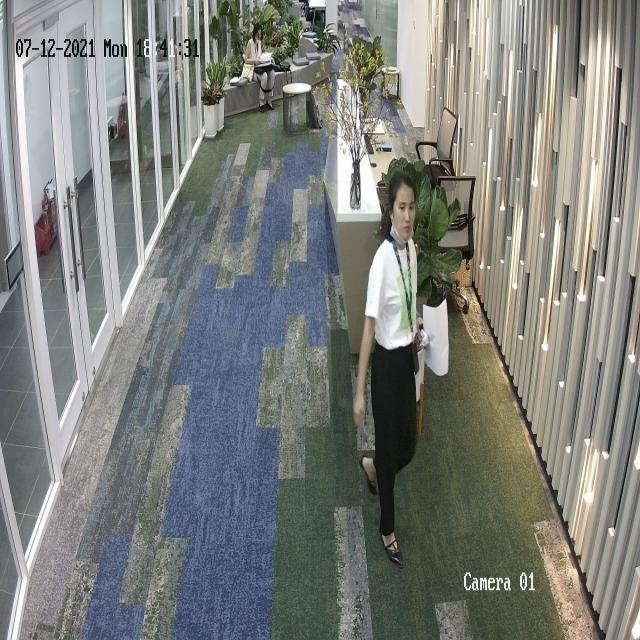hairnet: (391, 192, 414, 246), (254, 28, 262, 44)
